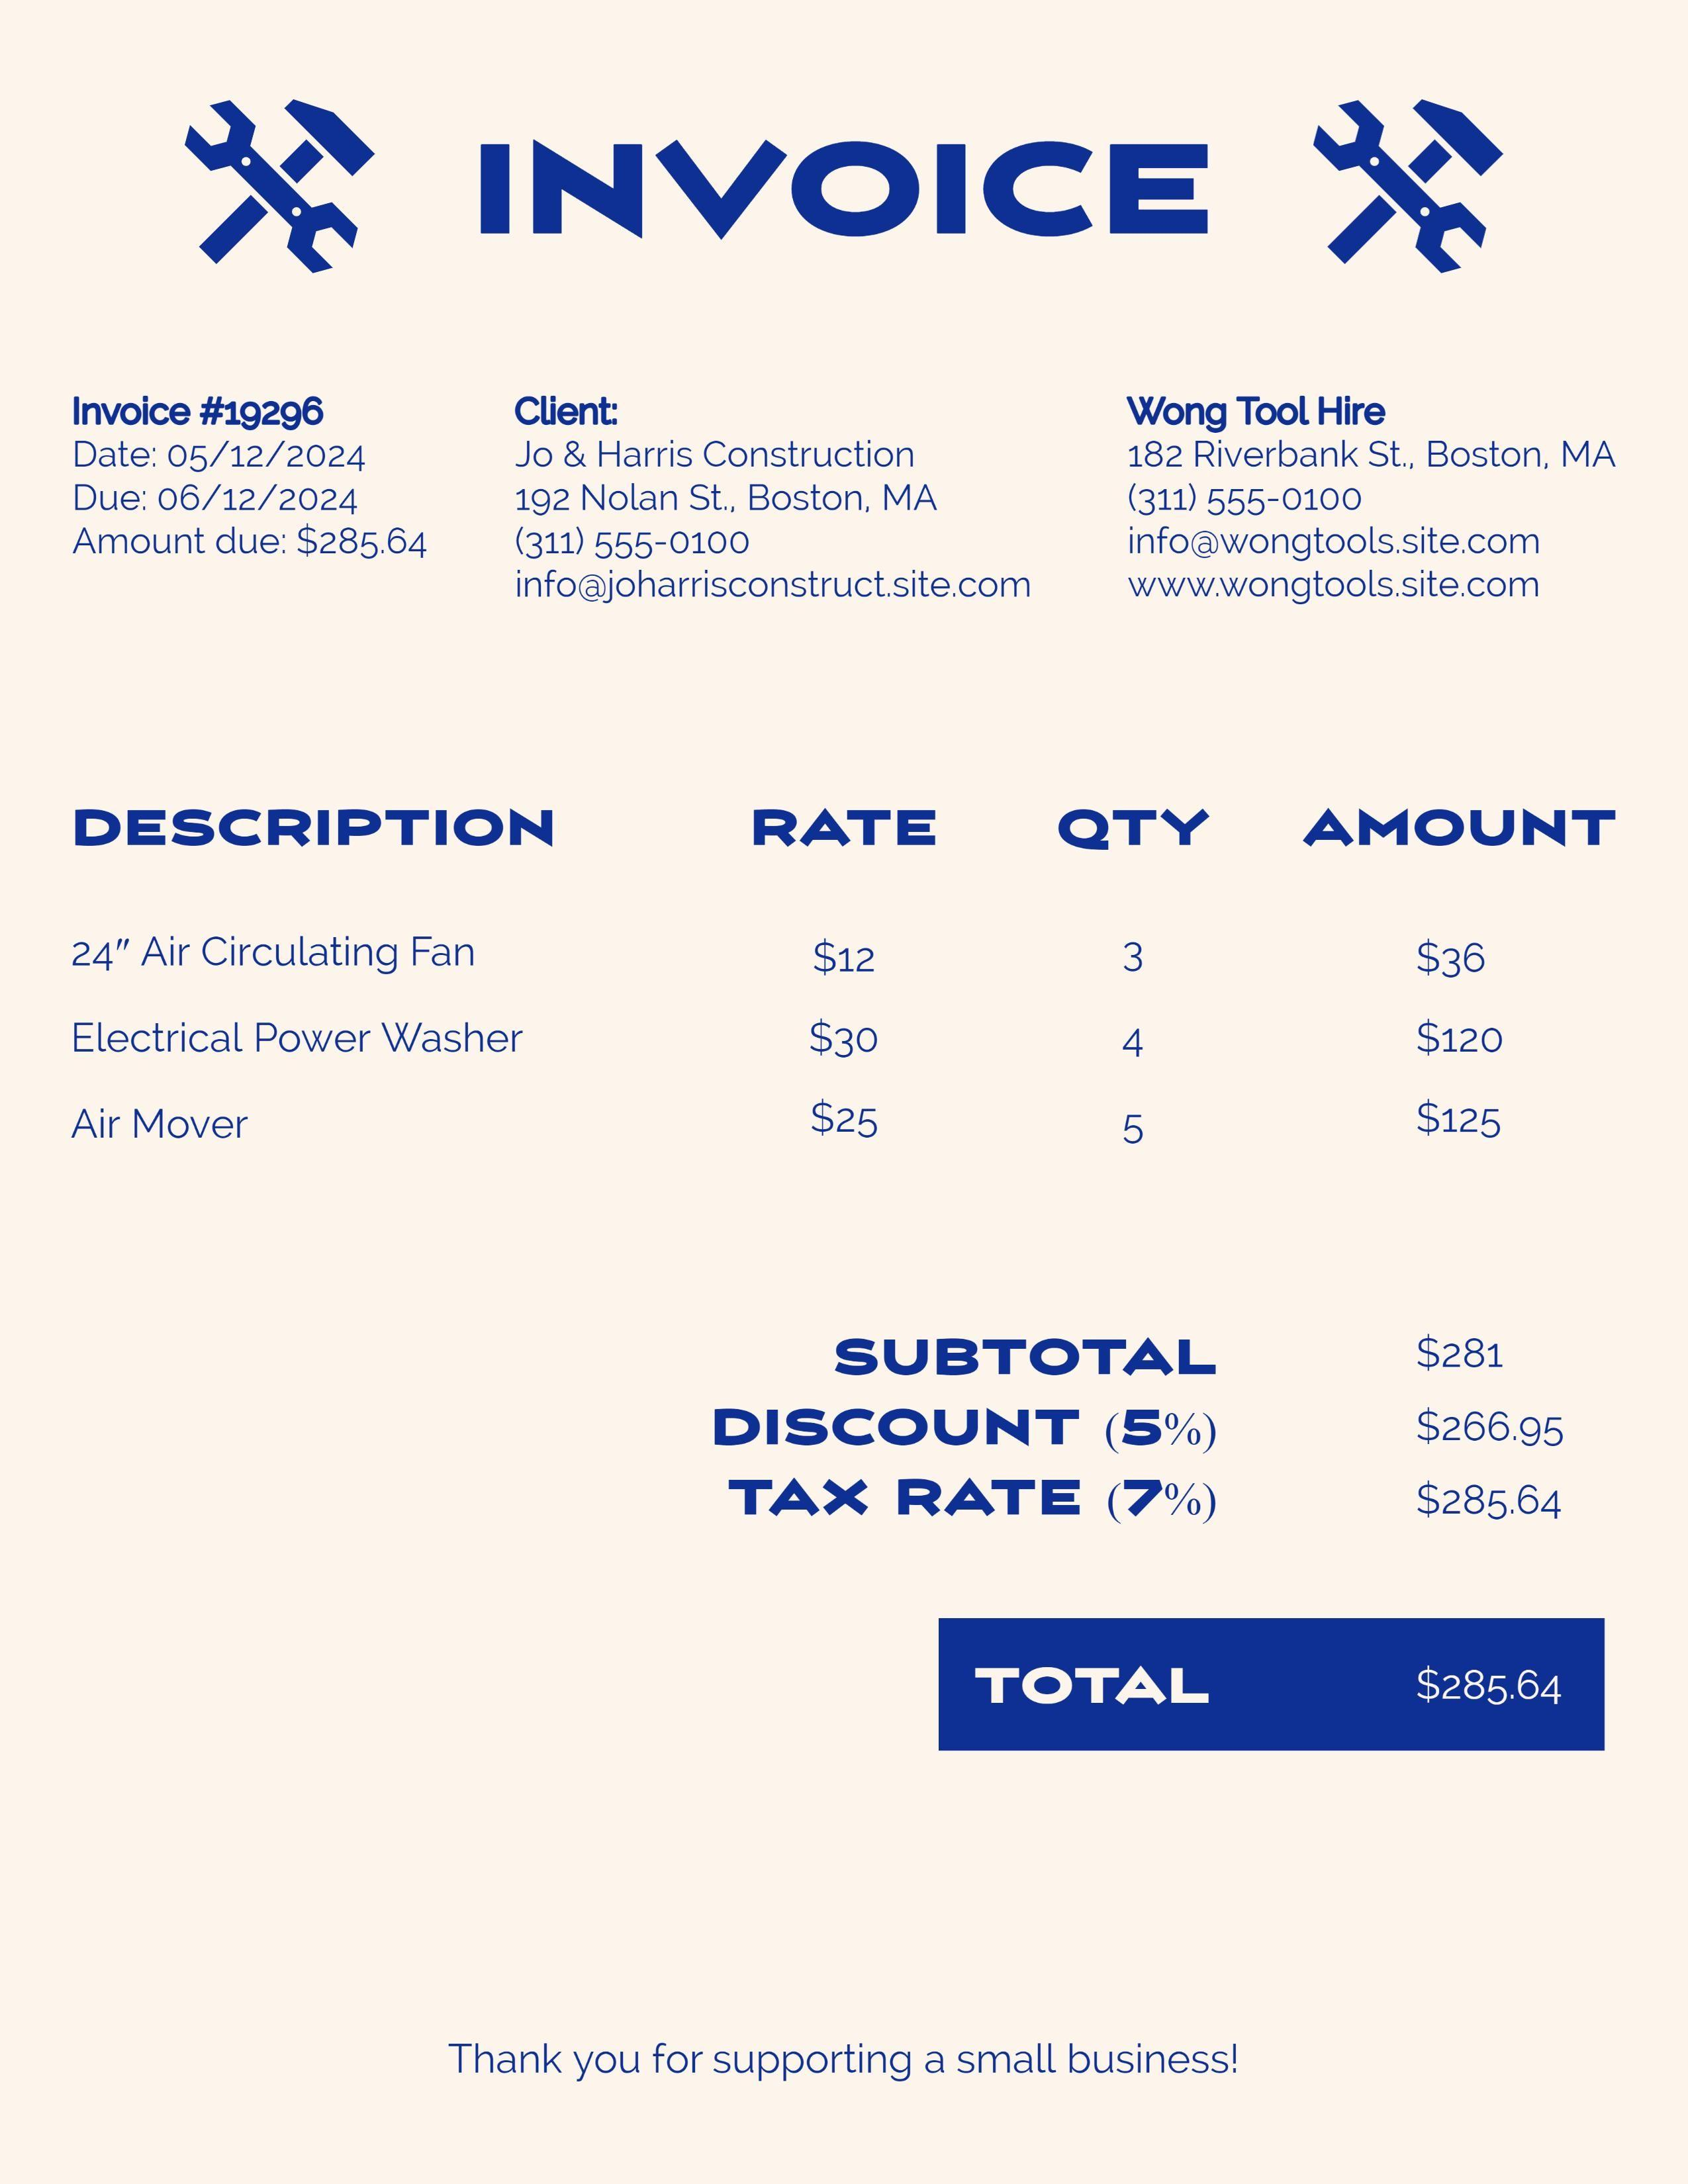ROI: (43, 782, 1644, 1209), (688, 1294, 1633, 1799), (486, 363, 1069, 628), (1101, 374, 1640, 636), (46, 370, 452, 617)
